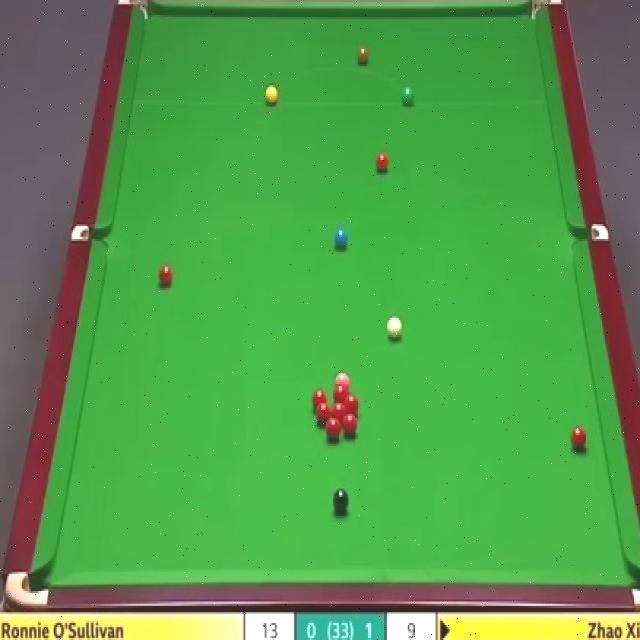black-ball: (332, 487, 350, 513)
blue-ball: (334, 226, 348, 251)
brown-ball: (355, 46, 370, 67)
green-ball: (400, 84, 415, 106)
pink-ball: (335, 373, 350, 392)
red-ball: (570, 425, 587, 453), (374, 150, 390, 175), (158, 263, 174, 288), (326, 418, 340, 443), (334, 399, 349, 422), (342, 414, 357, 436), (313, 388, 327, 410), (316, 402, 330, 424), (348, 394, 362, 414), (333, 389, 348, 401)
white-ball: (385, 315, 404, 342)
yellow-ball: (264, 85, 278, 105)
